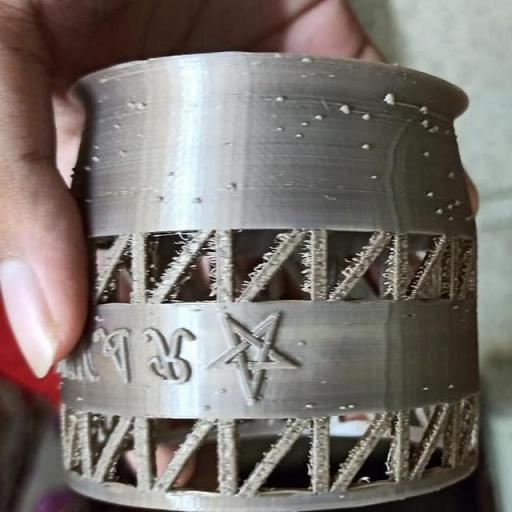blobs: (382, 90, 400, 107), (414, 101, 434, 116), (335, 101, 353, 115), (419, 146, 434, 162), (442, 379, 459, 393), (134, 99, 148, 116), (186, 194, 202, 208), (274, 93, 290, 106), (300, 55, 316, 68), (358, 110, 376, 121), (300, 400, 318, 411), (116, 146, 130, 160), (225, 179, 240, 192), (358, 138, 371, 153), (272, 122, 288, 134), (420, 119, 433, 133), (296, 338, 314, 348), (418, 383, 434, 394), (90, 152, 104, 164), (421, 189, 437, 199), (444, 170, 459, 180), (293, 131, 305, 143), (297, 120, 311, 130), (315, 112, 329, 122), (368, 172, 380, 183), (337, 400, 347, 412), (346, 400, 358, 410), (434, 206, 444, 216)
